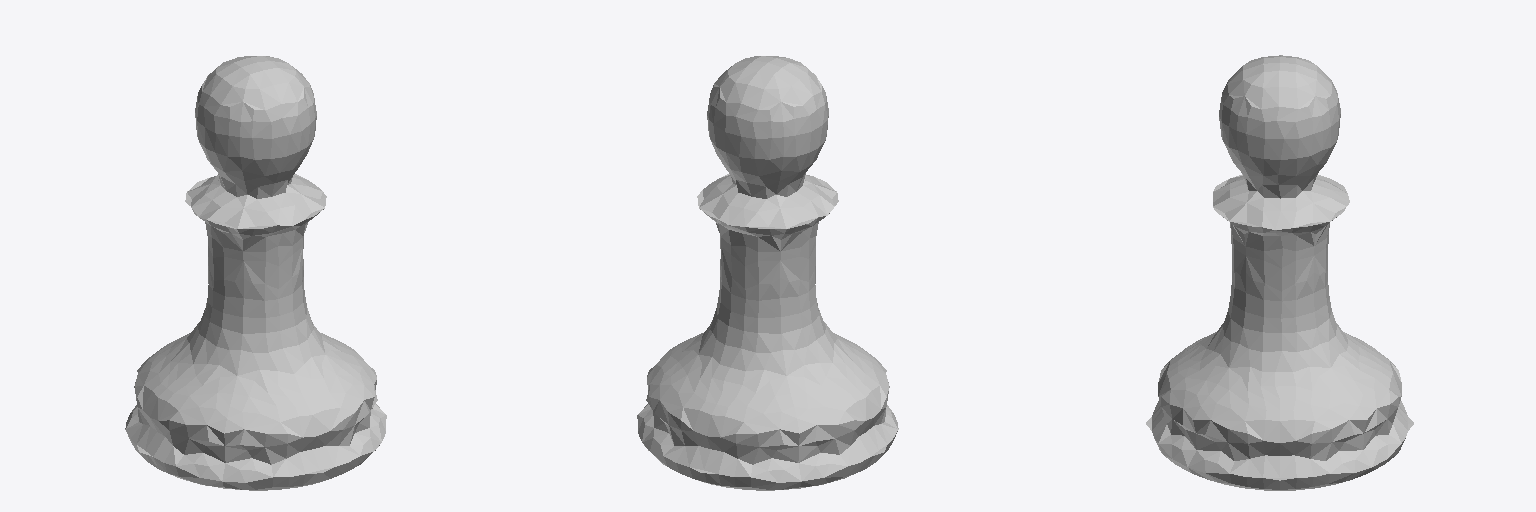
File: Pawn.obj
The picture shows the model from 3 angles: view 1: azimuth 30°, elevation 25°; view 2: azimuth 150°, elevation 25°; view 3: azimuth 270°, elevation 25°; orthographic projection.
Size of the model in its own units: 12.14 by 19.23 by 12.14.